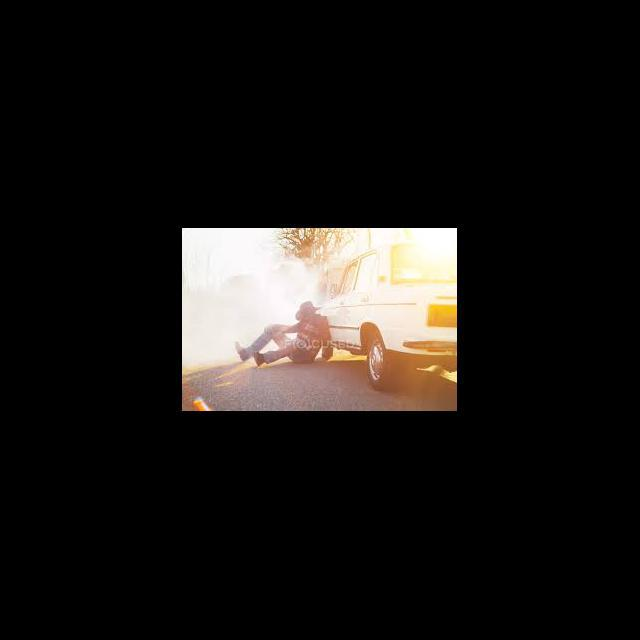Smoke: (185, 233, 232, 361), (238, 230, 290, 318)
